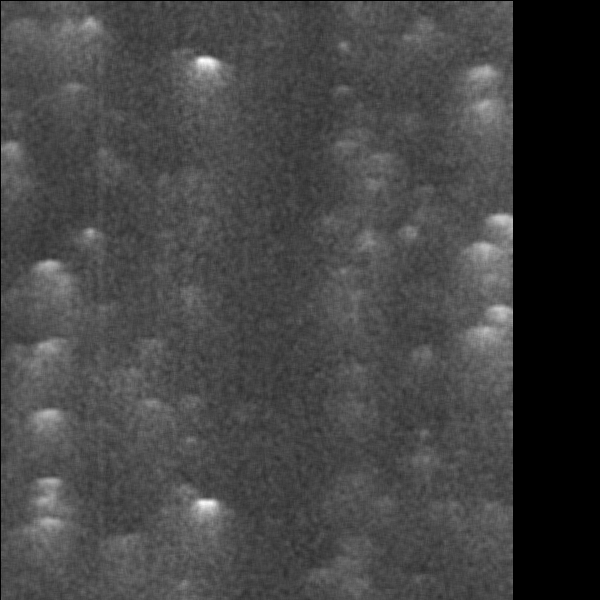spark: (25, 467, 75, 559), (94, 532, 152, 592), (454, 235, 510, 292), (184, 49, 227, 118), (186, 491, 228, 559), (28, 253, 73, 315), (454, 59, 503, 109), (361, 146, 399, 209), (26, 406, 73, 450), (461, 321, 519, 354), (341, 175, 419, 198), (349, 223, 392, 261), (333, 134, 368, 177), (50, 77, 102, 102), (491, 205, 518, 252), (77, 218, 103, 261), (400, 218, 423, 266), (1, 133, 21, 186), (36, 340, 72, 368), (130, 391, 163, 421), (394, 30, 423, 58), (176, 573, 196, 600)
